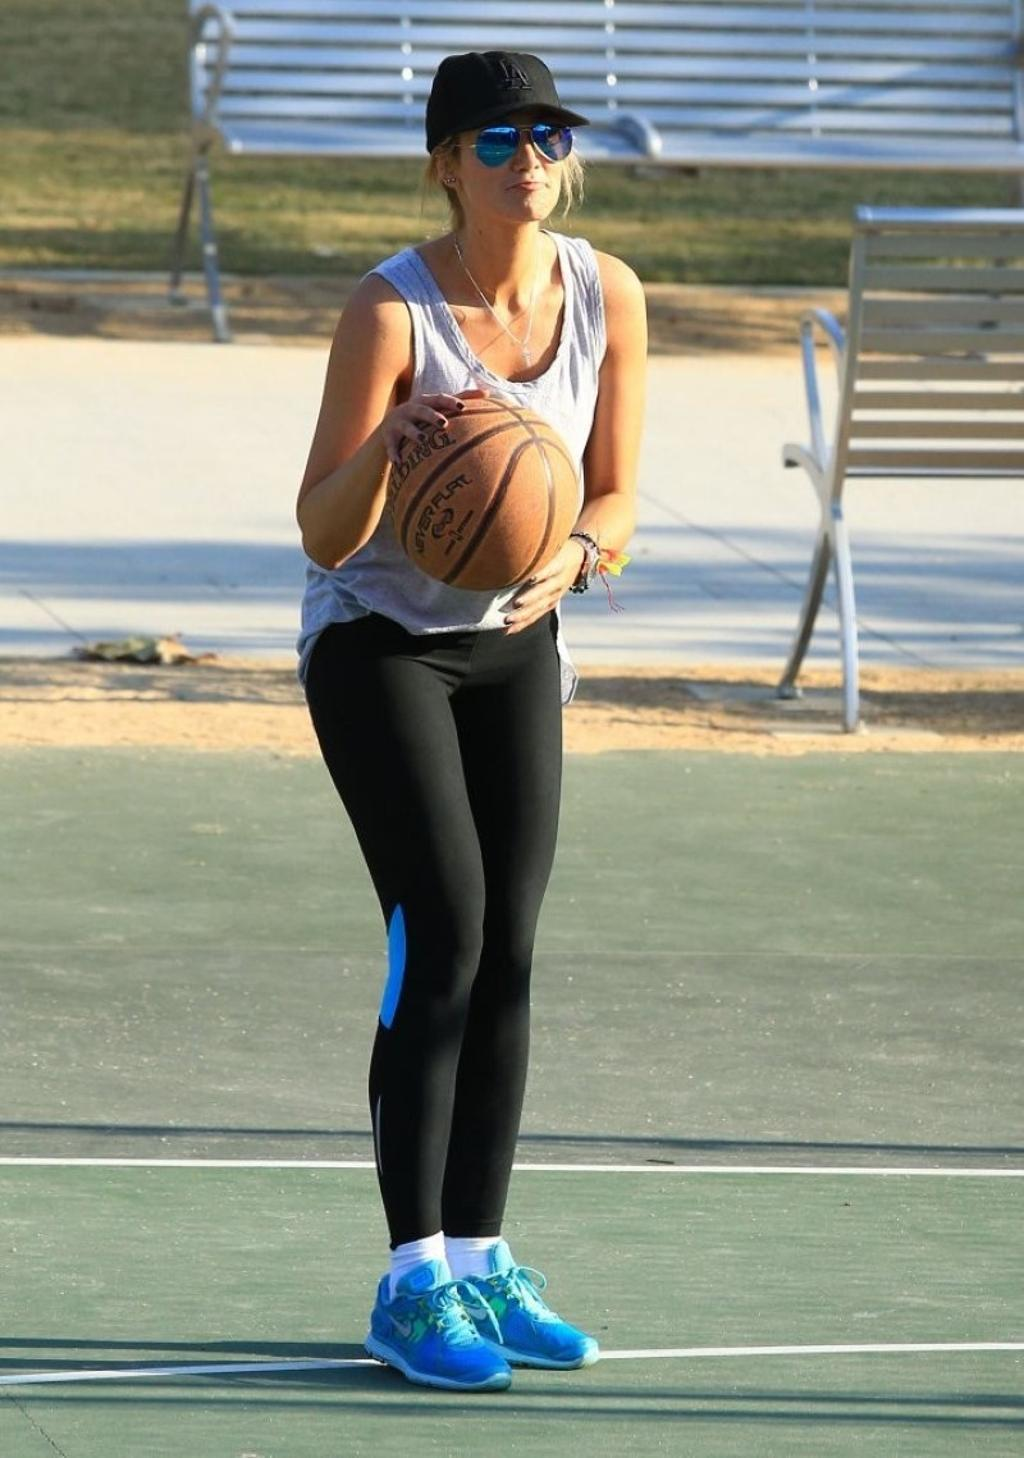face: (453, 86, 564, 214)
